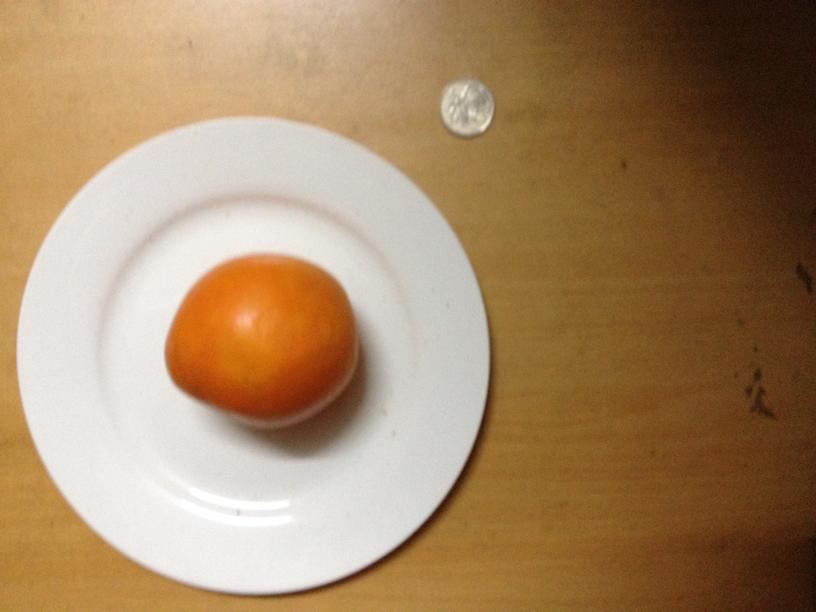coin: (441, 76, 495, 136)
orange: (160, 257, 357, 429)
